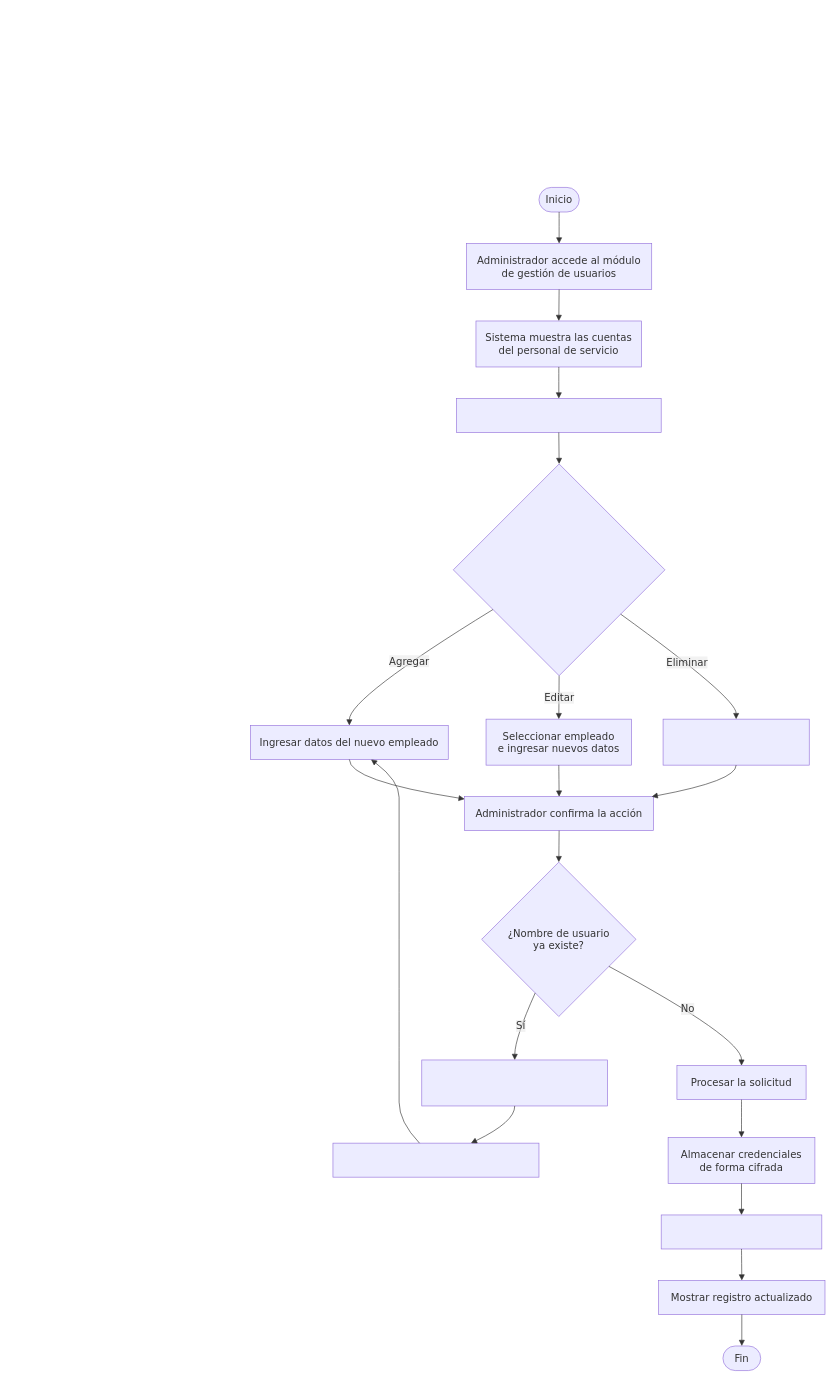
This 836x1382 diagram has some shape labels left out. The shapes that lost their labels are listed below. From the top down, each one's centre as x and y in pixels, then its label:
At [558,415]: "Administrador selecciona una acción".
At [559,569]: "¿Qué acción desea realizar?".
At [735,742]: "Seleccionar empleado y confirmar eliminación".
At [514,1082]: "Mostrar mensaje de error: El identificador ya está ocupado".
At [435,1160]: "Solicitar un nombre de usuario único".
At [741,1231]: "Actualizar la base de datos".
